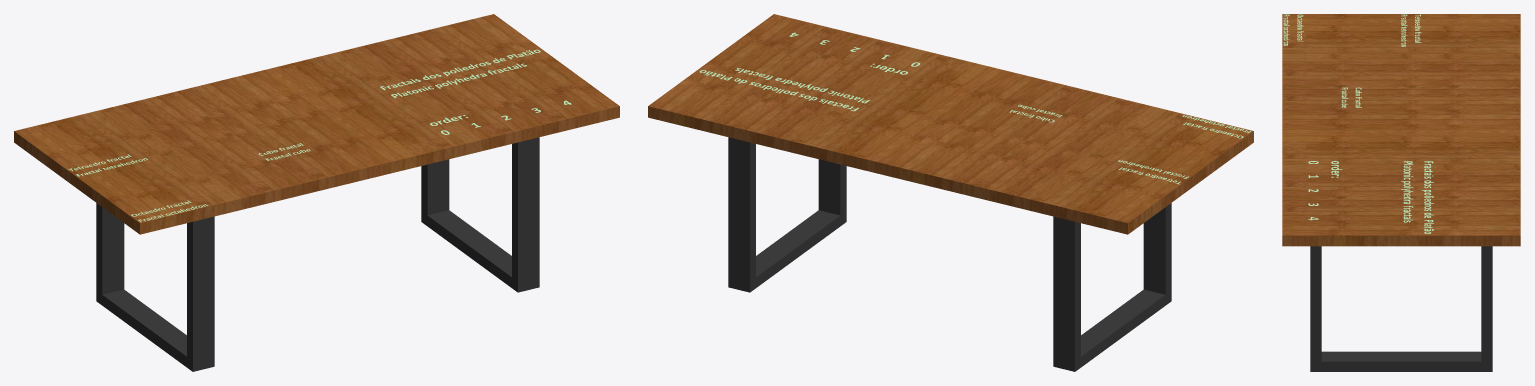
File: fractal_platao1.glb
The picture shows the model from 3 angles, left to right: view 1: azimuth 30°, elevation 25°; view 2: azimuth 150°, elevation 25°; view 3: azimuth 270°, elevation 25°; orthographic projection. The views are drawn at different scales.
Parts seen in each view (by area): view 1: object 1, Composant#1 (×2), Fractais dos pol; view 2: object 1, Composant#1 (×2), Fractais dos pol; view 3: object 1, Composant#1, Fractais dos pol, Tetraedro fracta, Octaedro fractal, order: 0 1.
Part boxes in pixels (x1,y1,x2,y2): object 1: (14,14,619,234); Composant#1 (×2): (96,137,539,371); Fractais dos pol: (380,49,540,98); object 1: (648,14,1253,234); Composant#1 (×2): (728,137,1171,371); Fractais dos pol: (699,68,869,111); object 1: (1282,14,1520,246); Composant#1: (1310,246,1492,371); Fractais dos pol: (1401,161,1433,233); Tetraedro fracta: (1401,14,1421,46); Octaedro fractal: (1283,14,1303,45); order: 0 1: (1308,161,1342,220).
Bounding box in the file's own units: 2.2 × 0.7711 × 1.
3 materials, 1 textured.
